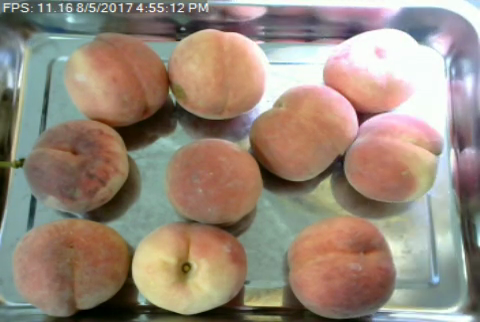Peach: (286, 214, 397, 319), (12, 217, 129, 315), (247, 83, 360, 181), (133, 221, 247, 316), (24, 118, 132, 212), (64, 33, 170, 126), (342, 113, 445, 202), (170, 26, 267, 120), (164, 138, 262, 226)
